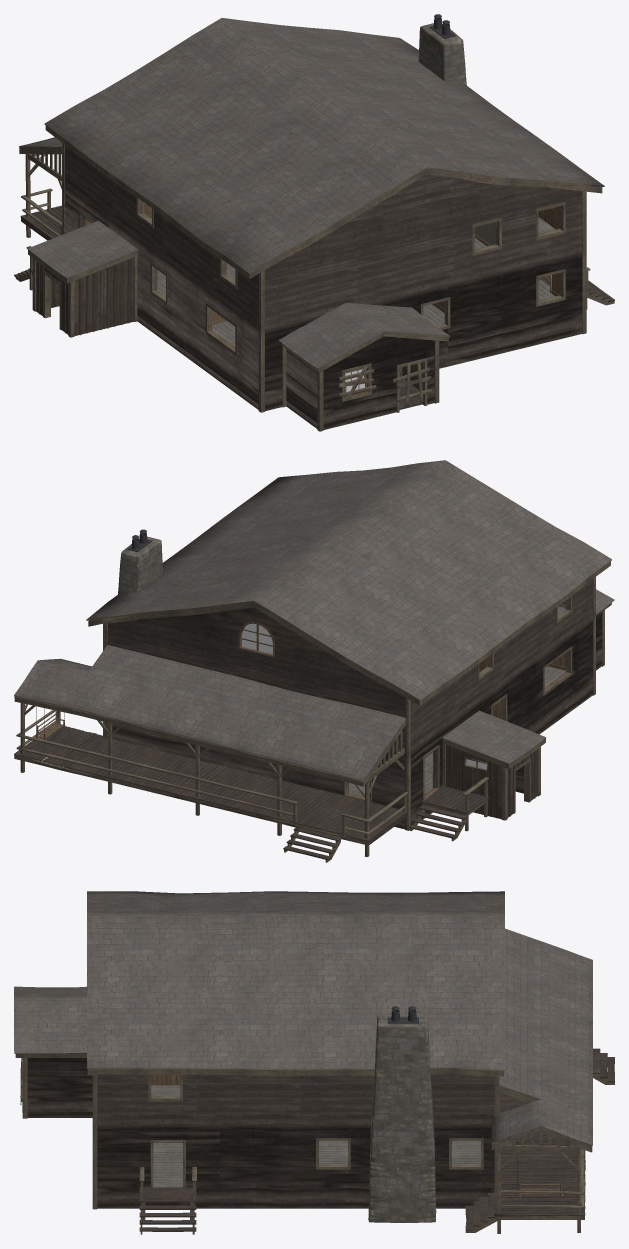
File: friday_the_13th_higgins_haven_house.glb
3 renders of one model, top to bottom at view 1: azimuth 30°, elevation 25°; view 2: azimuth 150°, elevation 25°; view 3: azimuth 270°, elevation 25°, orthographic. The views are drawn at different scales.
Parts seen in each view (by area): view 1: HigginsHaven_01, HigginsHaven_01_Floor01; view 2: HigginsHaven_01, HigginsHaven_01_Floor01; view 3: HigginsHaven_01, HigginsHaven_01_Floor01, HigginsHaven_01_Floor02.
Part boxes in pixels (left/top/right/bottom): HigginsHaven_01: left=14, top=14, right=614, bottom=431; HigginsHaven_01_Floor01: left=45, top=126, right=602, bottom=412; HigginsHaven_01: left=14, top=460, right=614, bottom=862; HigginsHaven_01_Floor01: left=88, top=561, right=610, bottom=830; HigginsHaven_01: left=14, top=891, right=614, bottom=1234; HigginsHaven_01_Floor01: left=87, top=1069, right=503, bottom=1209; HigginsHaven_01_Floor02: left=153, top=1142, right=183, bottom=1184.
Bounding box in the file's own units: 58.22 × 25.84 × 66.01.
15 materials, 14 textured.
